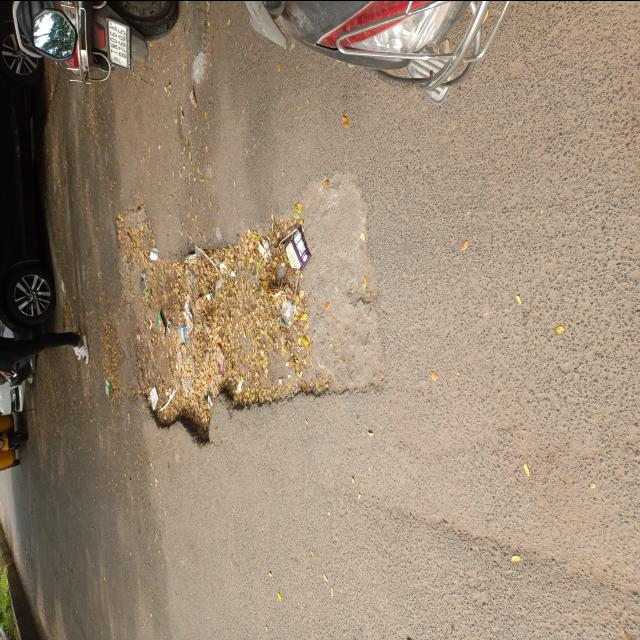potholes: (104, 167, 378, 455)
